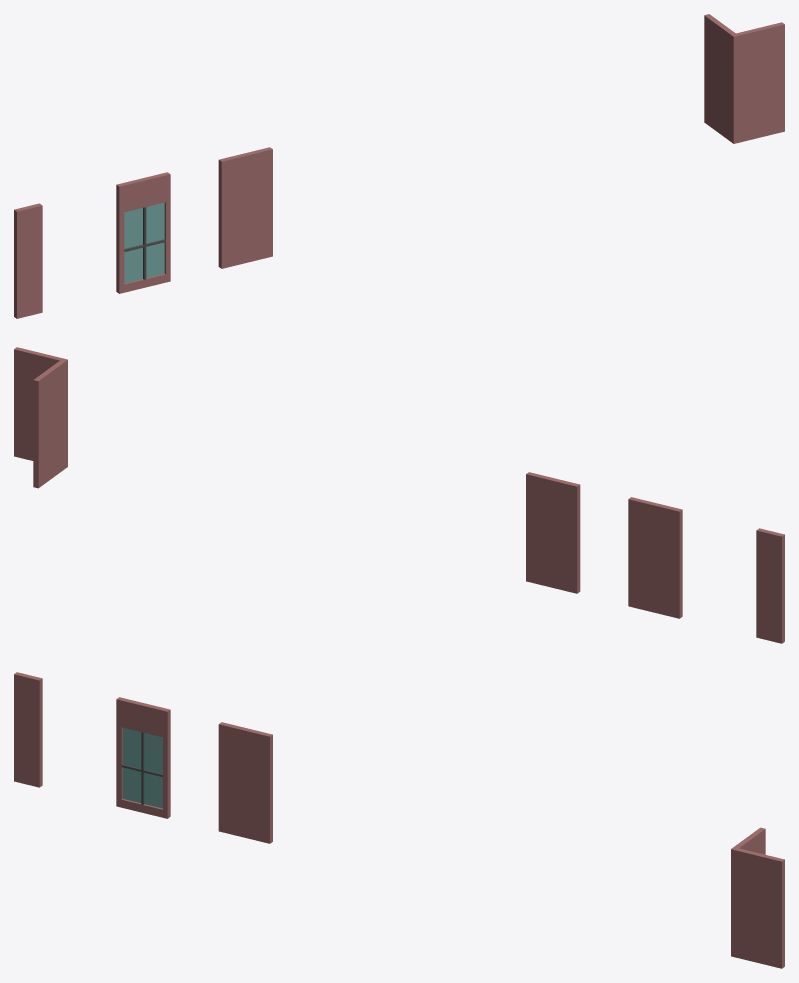
The model's file is PIECESMATERIALS.fbx.
3 views of the same model, one above another, from view 1: azimuth 30°, elevation 25°; view 2: azimuth 150°, elevation 25°; view 3: azimuth 330°, elevation 25° (orthographic).
Visible parts, largest first — view 1: pCube136, pCube6, pCube2, pCube133; view 2: pCube136, pCube6, pCube2, pCube133; view 3: pCube136, pCube6, pCube2, pCube133.
Boxes of the visible parts, box(x1,y1,x2,y2) form: pCube136: box(704, 14, 784, 143); pCube6: box(116, 172, 170, 293); pCube2: box(218, 147, 272, 268); pCube133: box(14, 203, 42, 318); pCube136: box(14, 347, 67, 488); pCube6: box(628, 497, 682, 618); pCube2: box(526, 472, 580, 593); pCube133: box(756, 528, 784, 643); pCube136: box(731, 827, 784, 968); pCube6: box(116, 697, 170, 818); pCube2: box(218, 722, 272, 843); pCube133: box(14, 672, 42, 787).
Bounding box in the file's own units: 15 × 2 × 1.
